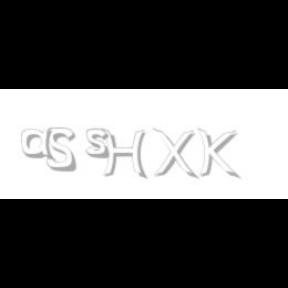H: (101, 128, 147, 180)
K: (197, 128, 237, 180)
S: (46, 128, 78, 172)
X: (152, 128, 196, 180)
a: (22, 128, 58, 160)
s: (86, 128, 114, 160)
